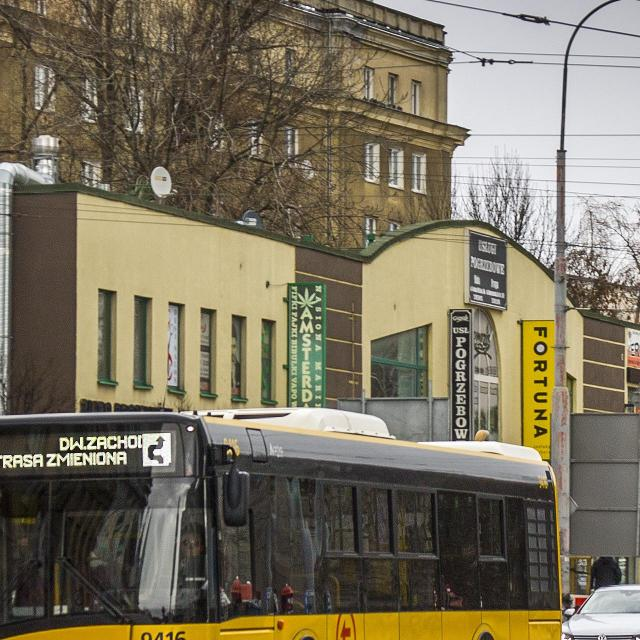Bus: (0, 408, 562, 640)
Electric pole: (552, 0, 621, 584)
